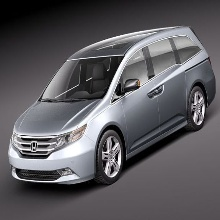no damage: (8, 25, 217, 187)
